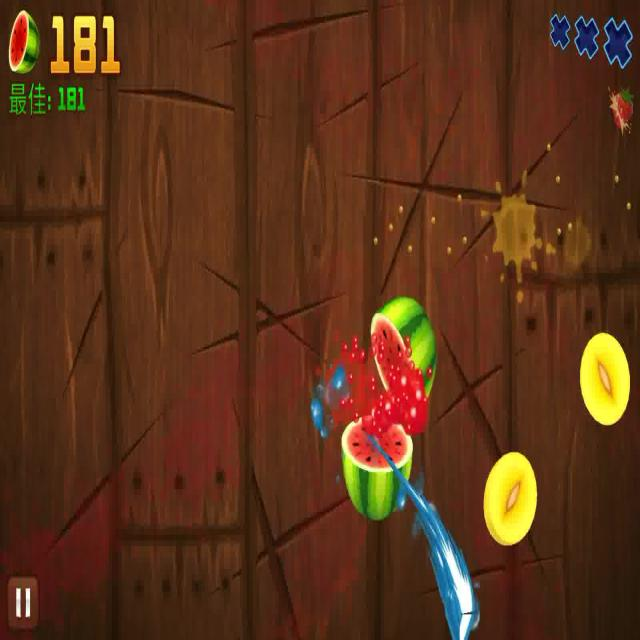fruit: (372, 302, 444, 419), (336, 414, 415, 518), (482, 449, 540, 545), (581, 325, 634, 430)
